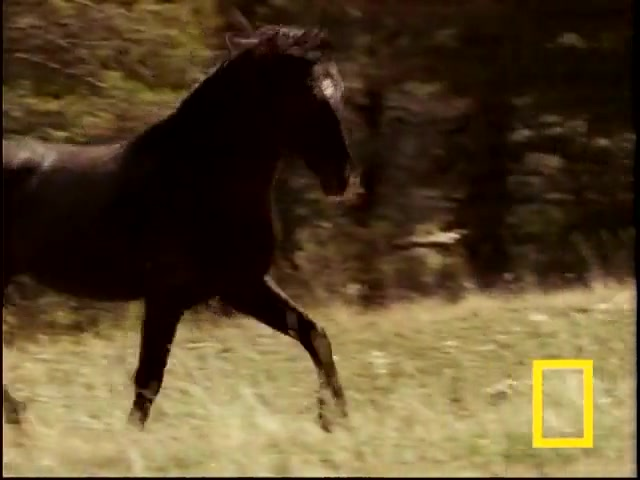horse: (3, 25, 358, 434)
